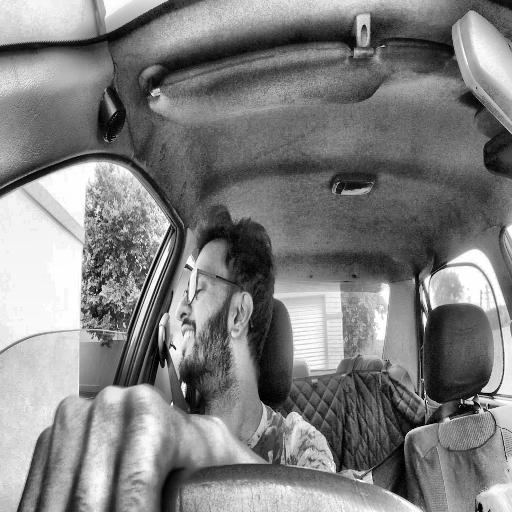drowsy: (175, 205, 275, 397)
